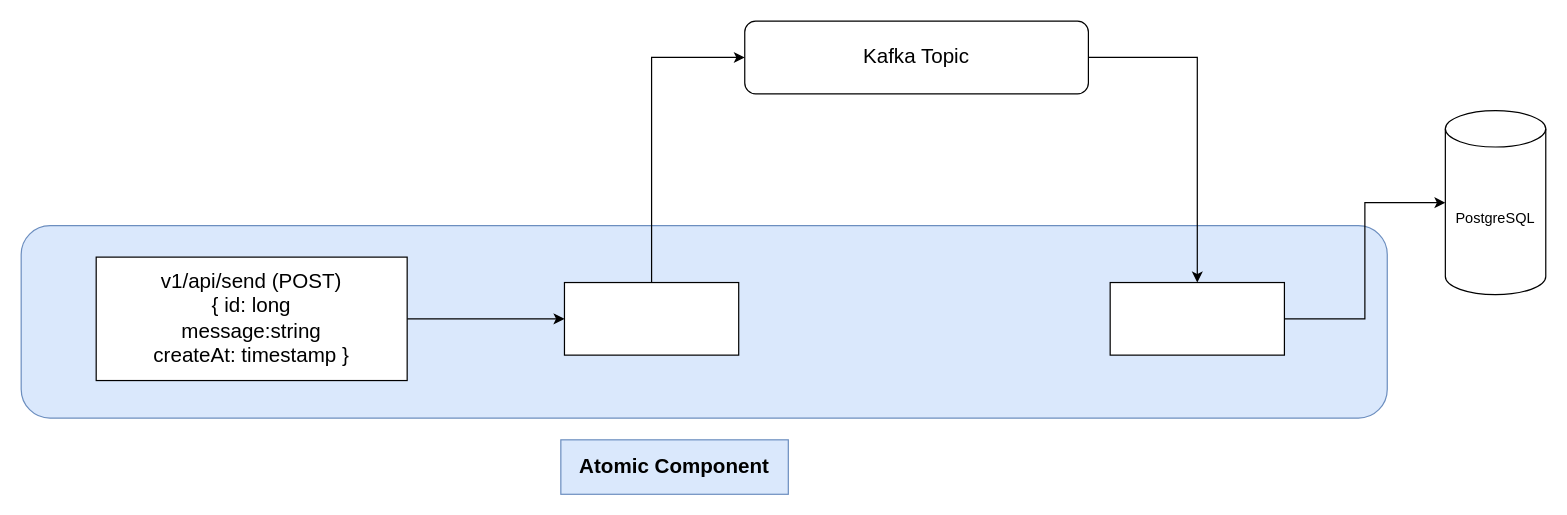
Image size: 1567x515. Some labels were removed from this diagram. Here are the shapes that lost their labels. From the top down, the centre of each, then its label:
At point 651,318: "Kafka Producer".
At point 1196,318: "Kafka Consumer".
